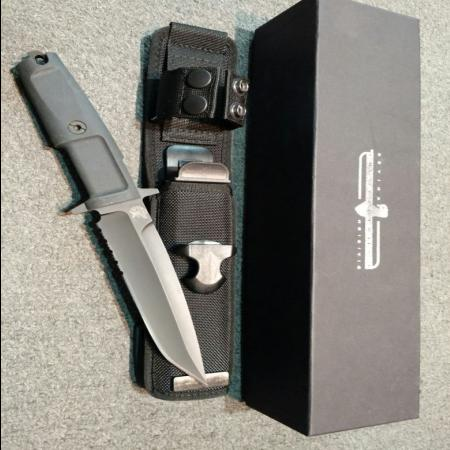long weapon: (60, 176, 218, 397)
